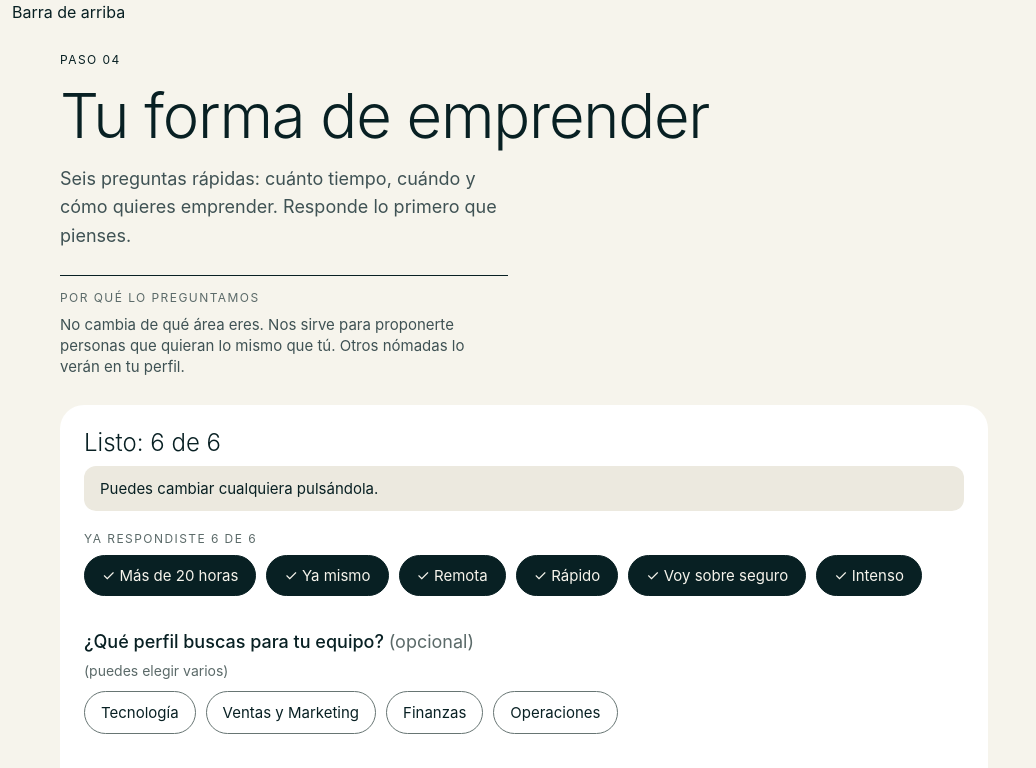
Test: FormaView › con las seis contestadas empieza en el final, que resume y deja cambiar cualquiera
Expected: the heading "Listo: 6 de 6" is shown, top-left (84, 428), bottom-right (221, 457)
Expected: the text "Puedes cambiar cualquiera pulsándola." is shown, top-left (84, 466), bottom-right (964, 511)
Click the button "✓ Remota" at (452, 575), box top-left (398, 555), bottom-right (506, 596)
(page scrolled)
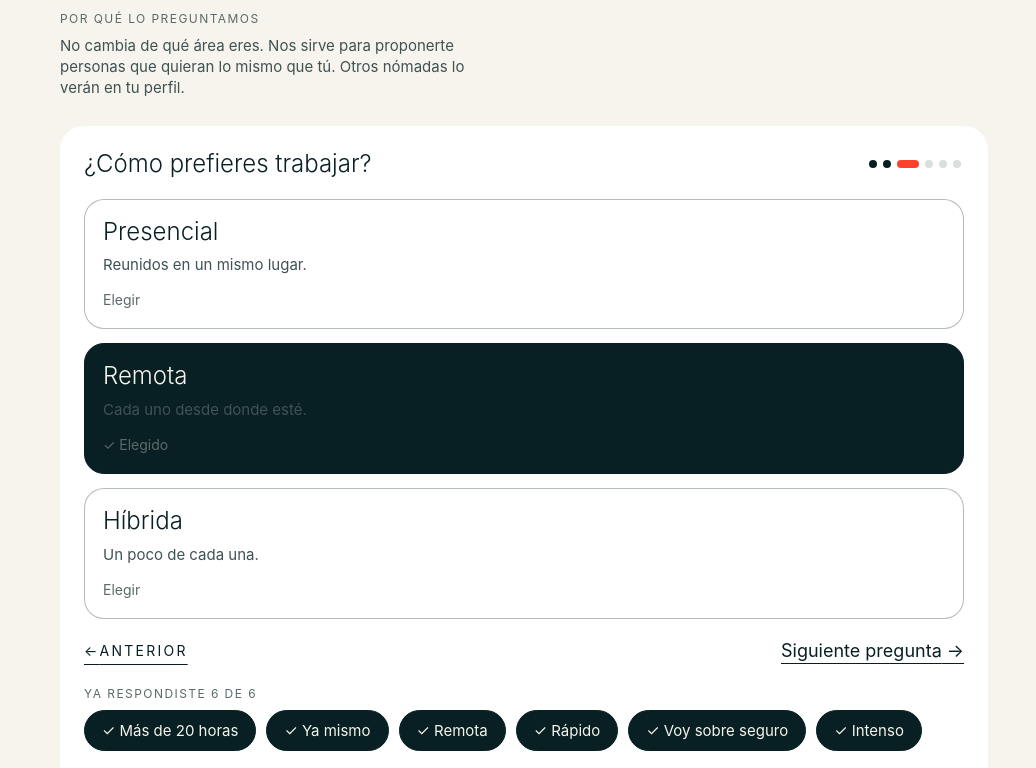
Expected: the element "¿Cómo prefieres trabajar?" is shown, top-left (84, 150), bottom-right (964, 619)
Expected: the radio button labelled "Remota Cada uno desde donde esté. ✓ Elegido" is checked, top-left (84, 344), bottom-right (964, 474)
